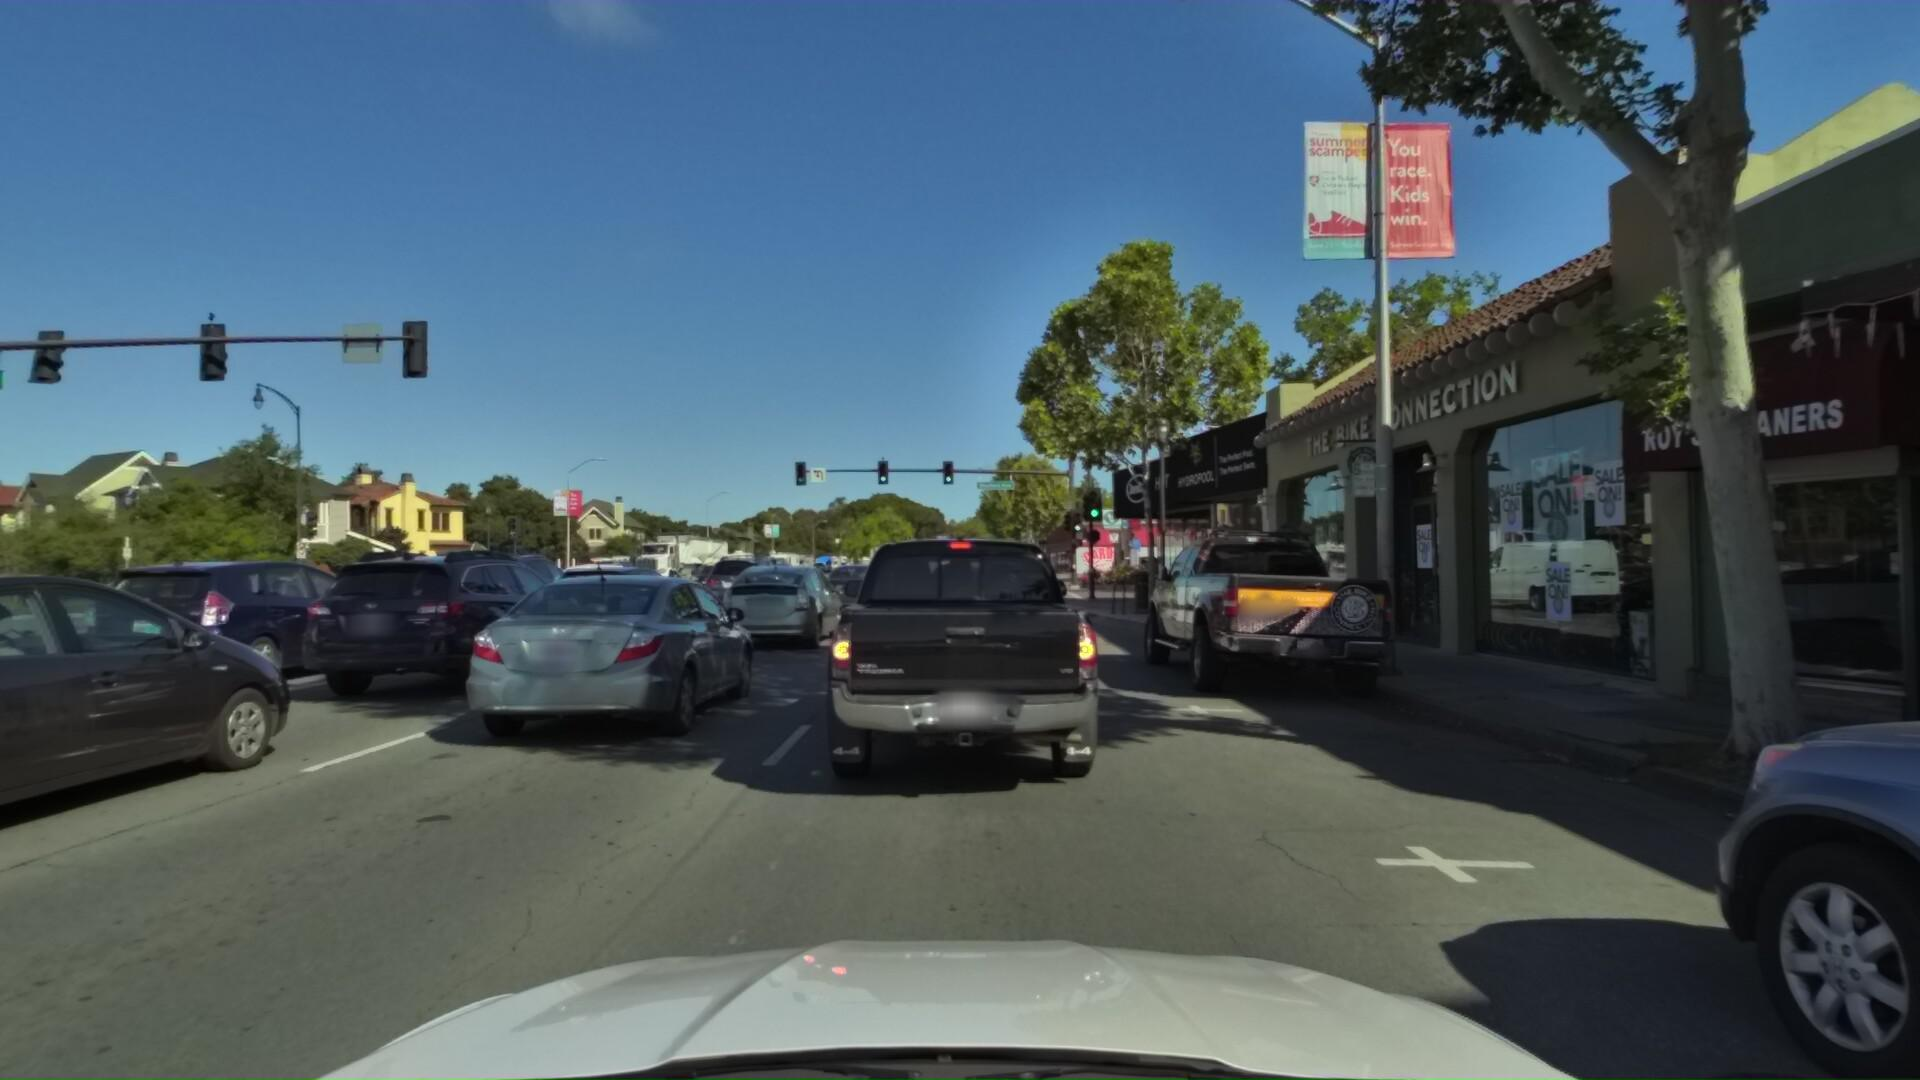car: (0, 504, 303, 960), (802, 524, 1109, 820), (415, 562, 777, 781), (1127, 496, 1416, 702), (71, 550, 413, 703), (284, 546, 592, 712), (402, 541, 589, 633), (524, 564, 705, 657), (704, 560, 848, 658), (923, 560, 1035, 655), (541, 562, 665, 626), (916, 541, 994, 620), (692, 553, 789, 611), (819, 562, 894, 621), (583, 547, 637, 583), (687, 553, 738, 585), (570, 555, 611, 587), (905, 563, 932, 585)
truck: (618, 521, 733, 588)
